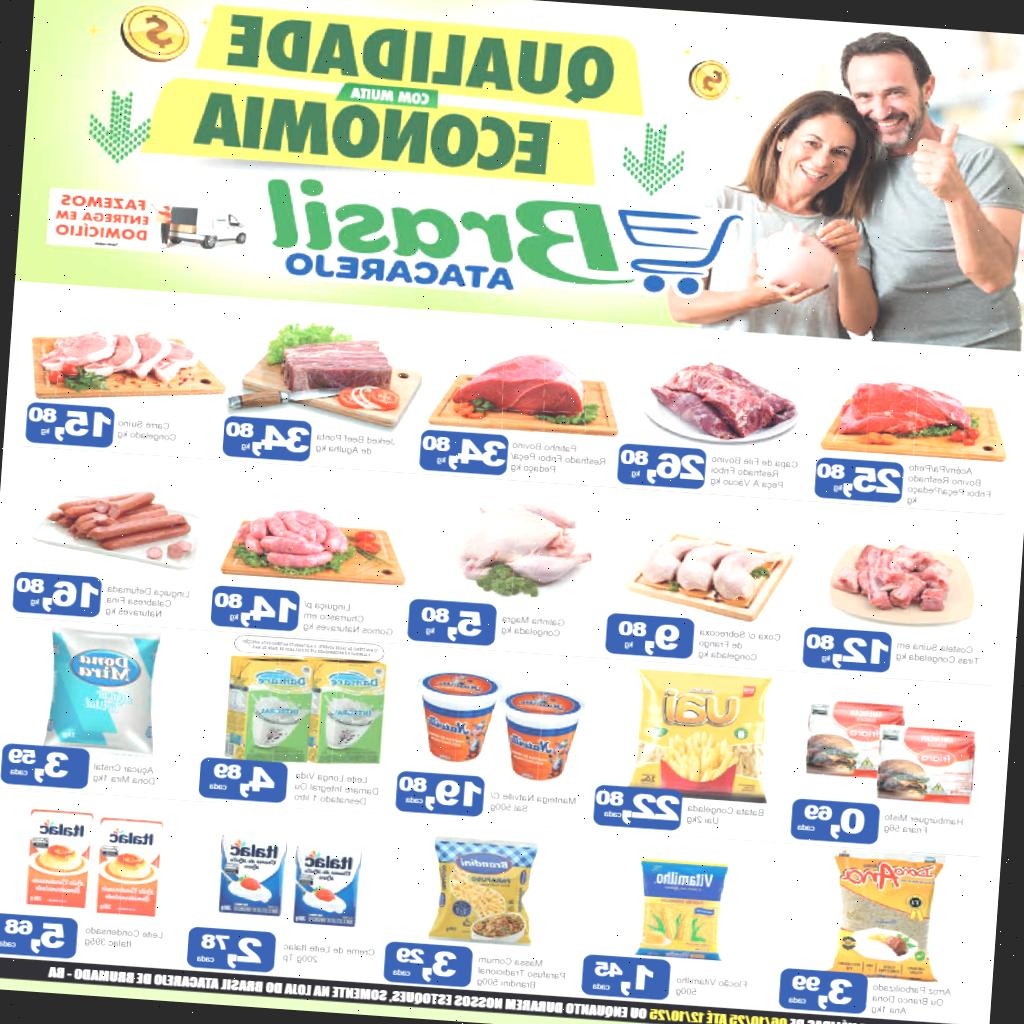price: (26, 404, 112, 446), (618, 448, 706, 488), (804, 633, 892, 673), (224, 420, 312, 460), (13, 576, 101, 616), (212, 592, 299, 632), (814, 462, 900, 502), (396, 774, 482, 814), (594, 788, 680, 828), (420, 435, 508, 474), (794, 802, 868, 841), (786, 973, 858, 1013), (587, 958, 656, 999), (192, 932, 266, 970), (390, 946, 463, 984), (5, 746, 74, 786), (0, 916, 67, 957), (206, 762, 278, 800), (614, 618, 682, 658), (418, 606, 486, 644)
product_text: (905, 460, 997, 511), (300, 595, 396, 640), (509, 438, 608, 481), (708, 452, 802, 494), (472, 954, 570, 994), (103, 581, 195, 623), (696, 626, 785, 668), (292, 768, 382, 808), (868, 980, 956, 1020), (280, 938, 378, 970), (893, 636, 982, 670), (486, 789, 580, 818), (83, 922, 168, 954), (314, 429, 401, 459), (881, 810, 967, 840), (684, 801, 768, 830), (672, 972, 750, 1002), (114, 414, 182, 446), (90, 759, 160, 788), (498, 612, 567, 641)
